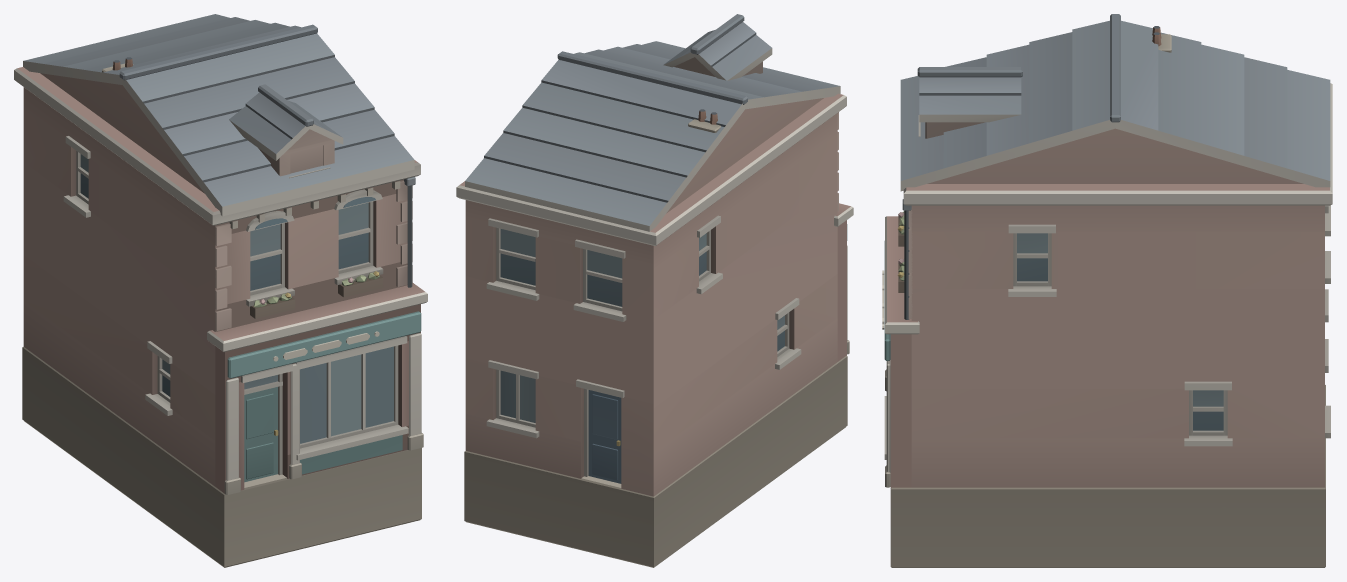
The model's file is terrace_c.glb.
3 views of the same model, side by side, from view 1: azimuth 30°, elevation 25°; view 2: azimuth 150°, elevation 25°; view 3: azimuth 270°, elevation 25° (orthographic). The views are drawn at different scales.
Size of the model in its own units: 4.72 by 9.07 by 8.19.
